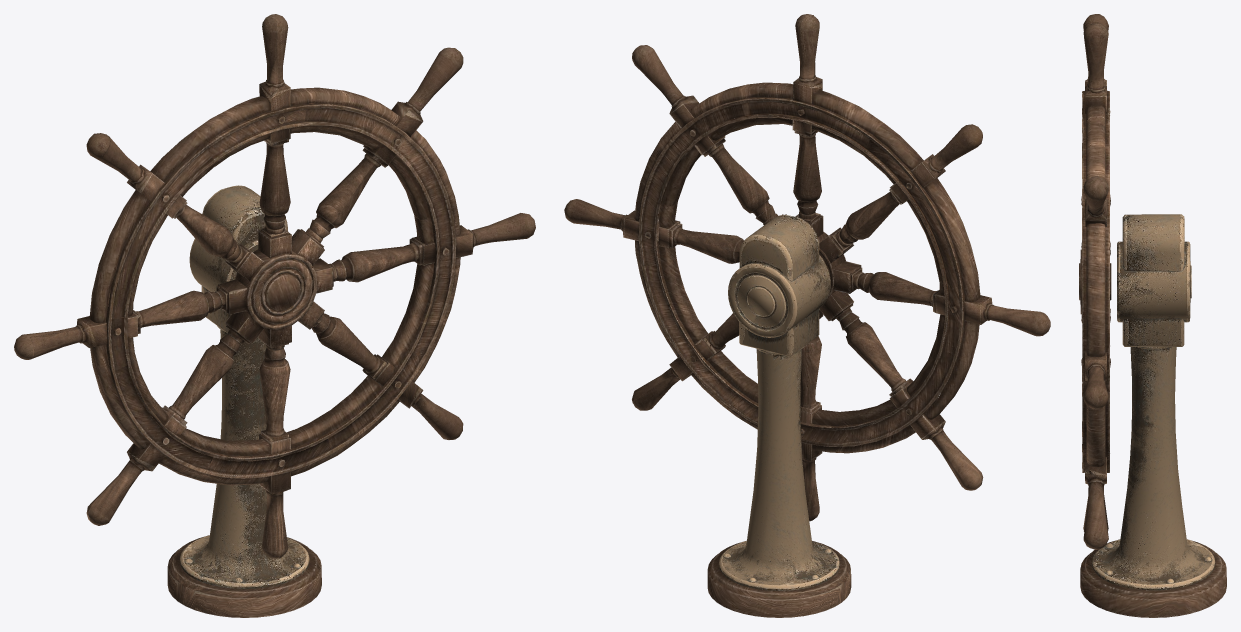
The model's file is ShipWheel.fbx.
3 renders of one model, left to right at view 1: azimuth 30°, elevation 25°; view 2: azimuth 150°, elevation 25°; view 3: azimuth 270°, elevation 25°, orthographic. The views are drawn at different scales.
Visible parts, largest first — view 1: defaultMaterial.004, defaultMaterial.001; view 2: defaultMaterial.004, defaultMaterial.001; view 3: defaultMaterial.001, defaultMaterial.004.
Boxes of the visible parts, <box> form: defaultMaterial.004: <box>14,14,535,558</box>; defaultMaterial.001: <box>167,185,321,617</box>; defaultMaterial.004: <box>564,14,1050,521</box>; defaultMaterial.001: <box>707,215,851,617</box>; defaultMaterial.001: <box>1080,214,1226,617</box>; defaultMaterial.004: <box>1079,14,1111,549</box>.
Size of the model in its own units: 1482 by 1619 by 385.
